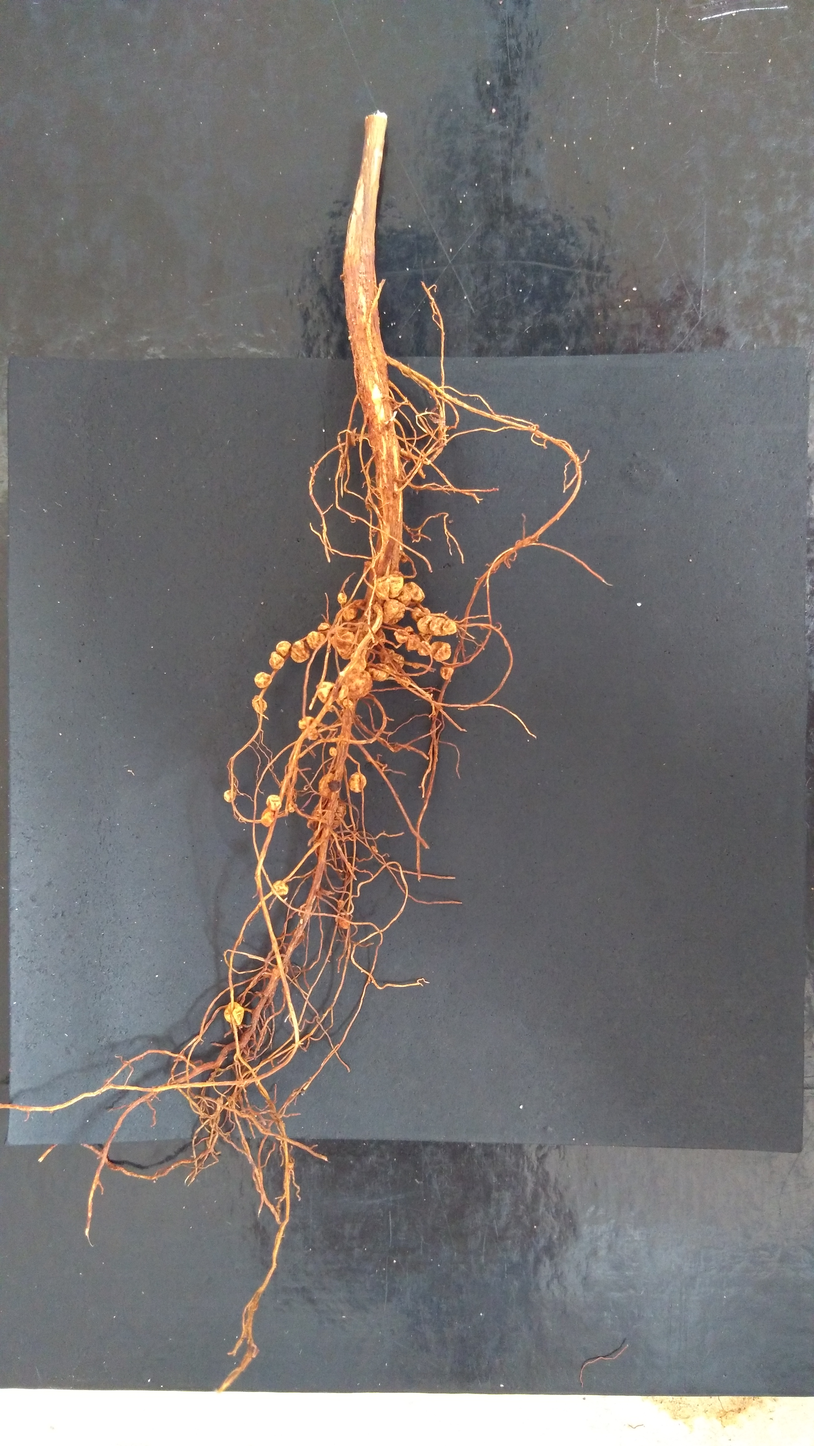nodule: (329, 630, 356, 661), (349, 669, 374, 701), (297, 716, 323, 742), (382, 598, 405, 627), (316, 771, 335, 801), (290, 638, 311, 665), (430, 639, 453, 663), (314, 680, 336, 704), (223, 1001, 244, 1026), (404, 581, 426, 604), (347, 771, 368, 794), (367, 662, 390, 682), (388, 573, 405, 600), (373, 576, 390, 601), (306, 630, 326, 651), (253, 671, 274, 690), (416, 612, 433, 634), (267, 651, 285, 671), (271, 879, 289, 898), (251, 694, 267, 715), (405, 633, 421, 654), (429, 617, 446, 636), (275, 640, 291, 660), (264, 794, 282, 811), (390, 628, 409, 644), (417, 639, 433, 657), (260, 807, 273, 828), (409, 606, 430, 619), (442, 618, 457, 636), (399, 588, 413, 607), (342, 606, 358, 621), (439, 666, 455, 681), (336, 916, 351, 931), (379, 647, 394, 662), (392, 652, 405, 669), (223, 789, 237, 804), (337, 684, 349, 700), (397, 675, 411, 688), (336, 592, 348, 606), (287, 802, 299, 814), (317, 621, 330, 632), (341, 698, 353, 709), (328, 745, 338, 757), (404, 626, 414, 635), (336, 899, 345, 909), (370, 845, 378, 853), (412, 662, 420, 669)
